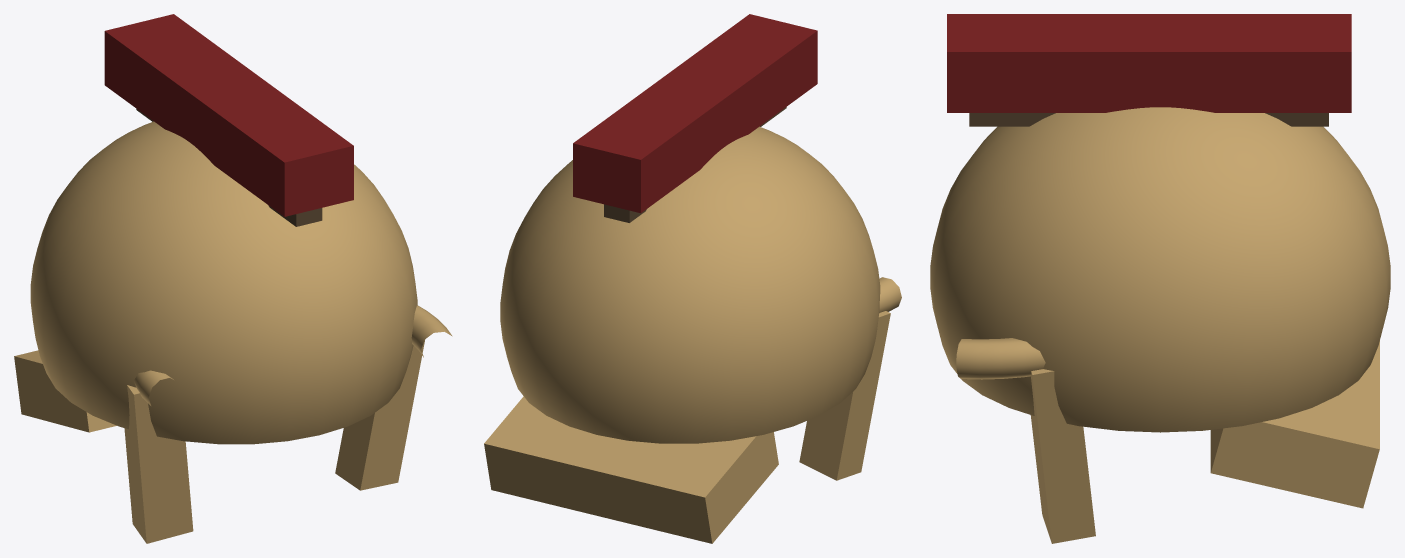
File: helmet.glb
3 renders of one model, left to right at view 1: azimuth 30°, elevation 25°; view 2: azimuth 150°, elevation 25°; view 3: azimuth 270°, elevation 25°, orthographic. The views are drawn at different scales.
Parts seen in each view (by area): view 1: RomanHelmet; view 2: RomanHelmet; view 3: RomanHelmet.
Boxes of the visible parts, left/top/right/bottom form: RomanHelmet: left=14, top=14, right=452, bottom=543; RomanHelmet: left=484, top=14, right=901, bottom=543; RomanHelmet: left=930, top=14, right=1390, bottom=543.
Size of the model in its own units: 0.3795 by 0.4341 by 0.4098.
